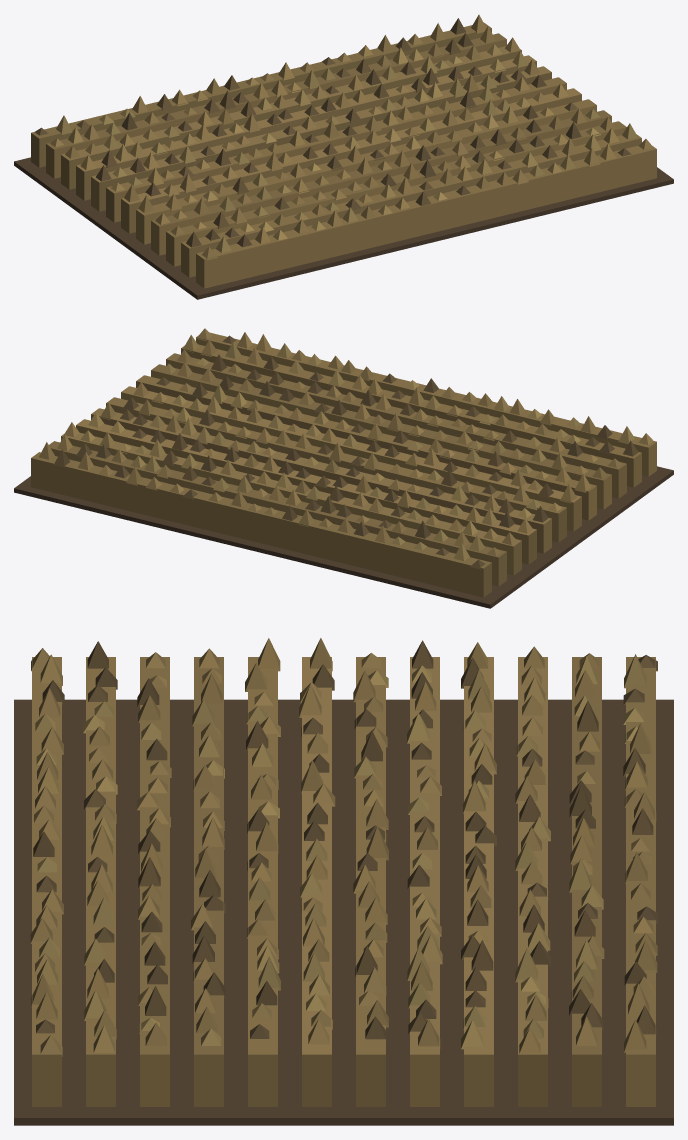
The model's file is walk_prop_field_grain.glb.
The picture shows the model from 3 angles, top to bottom: view 1: azimuth 30°, elevation 25°; view 2: azimuth 150°, elevation 25°; view 3: azimuth 270°, elevation 25°; orthographic projection. The views are drawn at different scales.
Parts seen in each view (by area): view 1: walk_prop_field_grain; view 2: walk_prop_field_grain; view 3: walk_prop_field_grain.
Boxes of the visible parts, left/top/right/bottom form: walk_prop_field_grain: left=14, top=14, right=673, bottom=299; walk_prop_field_grain: left=14, top=328, right=673, bottom=608; walk_prop_field_grain: left=14, top=638, right=673, bottom=1125.
Size of the model in its own units: 12 by 1.18 by 8.
1 material, 1 textured.
